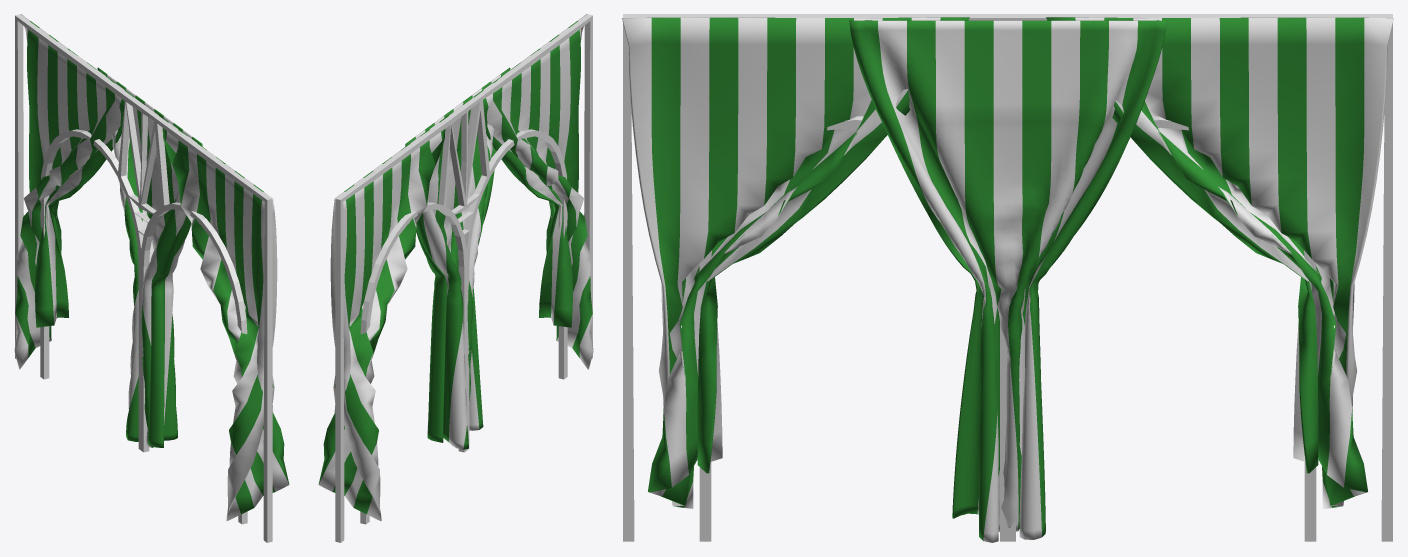
Rendered from puerta principal.fbx.
3 renders of one model, left to right at view 1: azimuth 30°, elevation 25°; view 2: azimuth 150°, elevation 25°; view 3: azimuth 270°, elevation 25°, orthographic. The views are drawn at different scales.
Parts seen in each view (by area): view 1: Laterales, Marco, Central; view 2: Laterales, Marco, Central; view 3: Laterales, Central, Marco.
Part boxes in pixels (x1,y1,x2,y2): Laterales: (14, 14, 289, 520); Marco: (15, 14, 272, 542); Central: (97, 67, 202, 447); Laterales: (318, 14, 593, 520); Marco: (335, 14, 592, 542); Central: (405, 67, 510, 449); Laterales: (622, 17, 1393, 508); Central: (849, 20, 1166, 542); Marco: (623, 14, 1392, 541).
Size of the model in its own units: 401 by 47.08 by 300.
